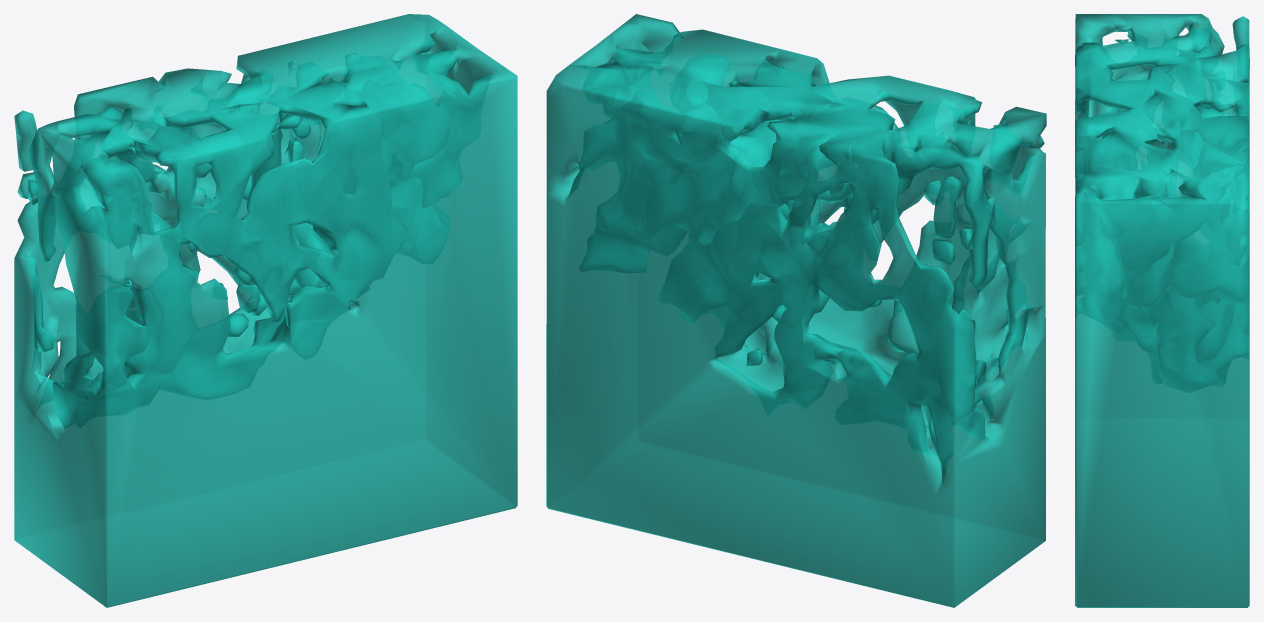
The picture shows the model from 3 angles, left to right: view 1: azimuth 30°, elevation 25°; view 2: azimuth 150°, elevation 25°; view 3: azimuth 270°, elevation 25°; orthographic projection. The views are drawn at different scales.
Visible parts, largest first — view 1: Liquid_Domain; view 2: Liquid_Domain; view 3: Liquid_Domain.
Boxes of the visible parts, bbox=[...] form: Liquid_Domain: bbox=[14, 14, 517, 607]; Liquid_Domain: bbox=[546, 14, 1046, 607]; Liquid_Domain: bbox=[1075, 14, 1249, 607].
Bounding box in the file's own units: 885 × 884 × 345.
